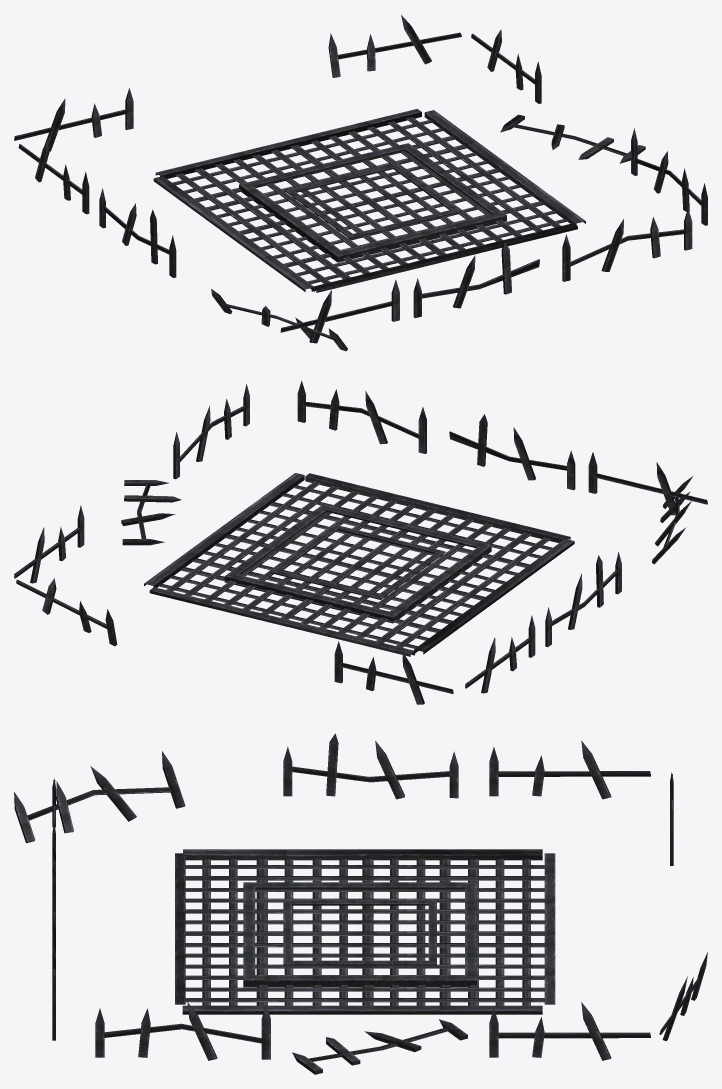
Rendered from tlfb_jinshu2.FBX.
The picture shows the model from 3 angles, top to bottom: view 1: azimuth 30°, elevation 25°; view 2: azimuth 150°, elevation 25°; view 3: azimuth 270°, elevation 25°; orthographic projection. The views are drawn at different scales.
Visible parts, largest first — view 1: tlfb_jinshu2; view 2: tlfb_jinshu2; view 3: tlfb_jinshu2.
Part boxes in pixels (x1=…): tlfb_jinshu2: x1=14, y1=15, x2=707, y2=351; tlfb_jinshu2: x1=14, y1=381, x2=707, y2=704; tlfb_jinshu2: x1=14, y1=733, x2=707, y2=1074.
Size of the model in its own units: 650 by 77.36 by 661.
